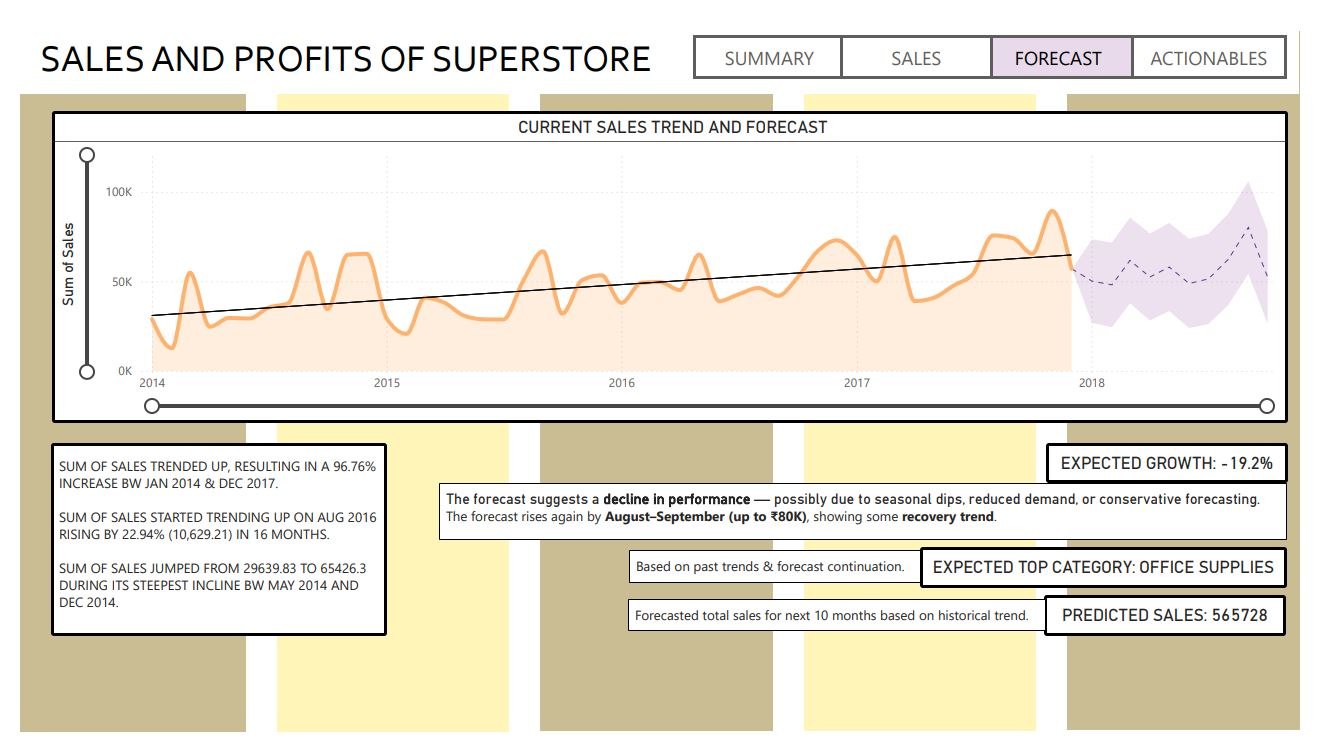

This screenshot's page, from the dashboard's own definition file:
{"tool":"powerbi","page":{"name":"Forecast","canvas":[1280,720],"ordinal":2},"visuals":[{"type":"shape","box":[520.1,11.2,233.2,699.5],"z":0},{"type":"shape","box":[784.3,10.6,231.9,700.7],"z":1000},{"type":"shape","box":[1046.8,10.9,233.2,699.5],"z":2000},{"type":"shape","box":[257,10,231.9,701.9],"z":3000},{"type":"shape","box":[0,10,225.9,701.9],"z":4000},{"type":"lineChart","title":"CURRENT SALES TREND AND FORECAST","fields":{"Y":["Sum(Sheet6.Sales)"],"Category":["Sheet6.Order Date.Variation.Date Hierarchy.Year","Sheet6.Order Date.Variation.Date Hierarchy.Quarter","Sheet6.Order Date.Variation.Date Hierarchy.Month","Sheet6.Order Date.Variation.Date Hierarchy.Day"]},"box":[31.8,91,1236.7,312.1],"z":5000},{"type":"textbox","box":[1025.6,422.9,242.9,39.9],"z":6000},{"type":"textbox","box":[419.3,462.8,848.2,56.8],"z":7000},{"type":"textbox","box":[1024.3,575.1,241.9,40.9],"z":8000},{"type":"textbox","box":[608,578.7,417.9,32.6],"z":9000},{"type":"textbox","box":[899.7,526.6,367.4,41.2],"z":10000},{"type":"textbox","box":[609,530.2,292.4,32.6],"z":11000},{"type":"textbox","box":[31.4,422.8,335.8,193.3],"z":12000},{"type":"textbox","box":[0,9.6,1279.1,64.2],"z":13000},{"type":"actionButton","box":[672.8,14.7,153,44.7],"z":14000},{"type":"actionButton","box":[960,14.7,157.3,44.7],"z":15000},{"type":"actionButton","box":[820,14.5,153.4,44.7],"z":16000},{"type":"actionButton","box":[1110.7,14.7,156,44.7],"z":17000}]}

Visuals, with their boxes in screenshot pixels (x1, y1, x2, y2), scaled from the page's 1280x720 canvas onto the 1319x747 screenshot:
shape: (536, 12, 776, 737)
shape: (808, 11, 1047, 738)
shape: (1079, 11, 1318, 737)
shape: (265, 10, 504, 739)
shape: (0, 10, 233, 739)
"CURRENT SALES TREND AND FORECAST" lineChart: (33, 94, 1307, 418)
textbox: (1057, 439, 1307, 480)
textbox: (432, 480, 1306, 539)
textbox: (1056, 597, 1305, 639)
textbox: (627, 600, 1057, 634)
textbox: (927, 546, 1306, 589)
textbox: (628, 550, 929, 584)
textbox: (32, 439, 378, 639)
textbox: (0, 10, 1318, 77)
actionButton: (693, 15, 851, 62)
actionButton: (989, 15, 1151, 62)
actionButton: (845, 15, 1003, 61)
actionButton: (1145, 15, 1305, 62)
